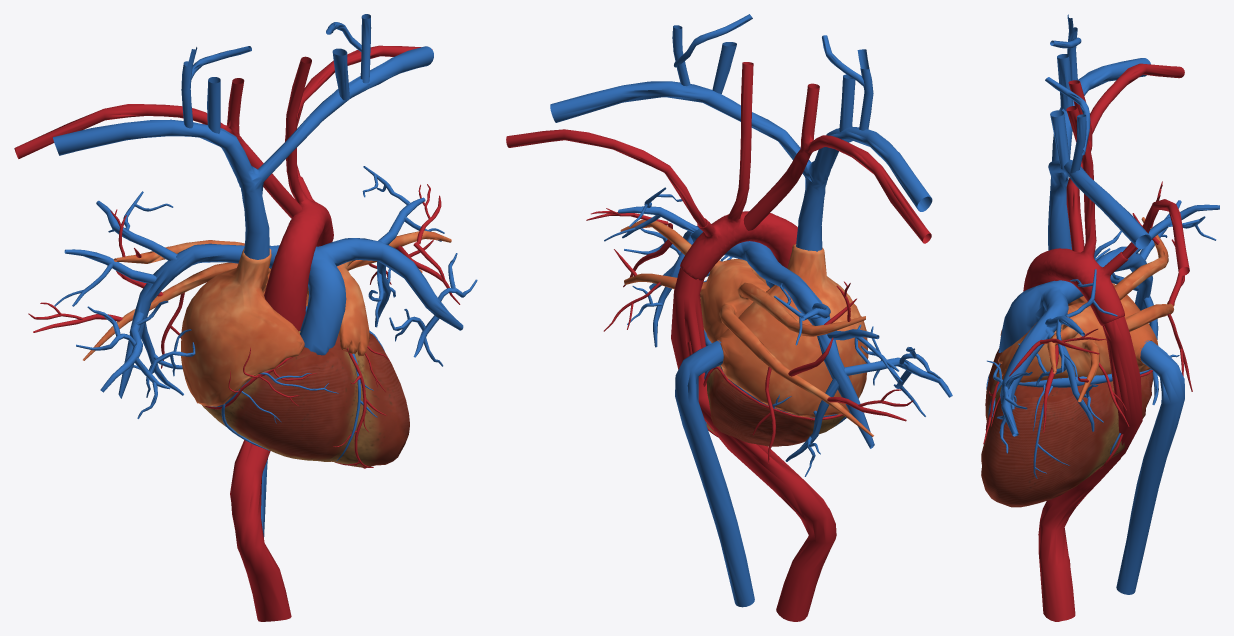
The model's file is - Coracao.FBX.
3 views of the same model, side by side, from view 1: azimuth 30°, elevation 25°; view 2: azimuth 150°, elevation 25°; view 3: azimuth 270°, elevation 25° (orthographic). The views are drawn at different scales.
Visible parts, largest first — view 1: Circulatory_Heart; view 2: Circulatory_Heart; view 3: Circulatory_Heart.
Boxes of the visible parts, x1,y1,x2,y2 form: Circulatory_Heart: (14,14,477,621); Circulatory_Heart: (506,14,952,621); Circulatory_Heart: (981,14,1219,621).
Bounding box in the file's own units: 23.17 × 30.99 × 11.83.
